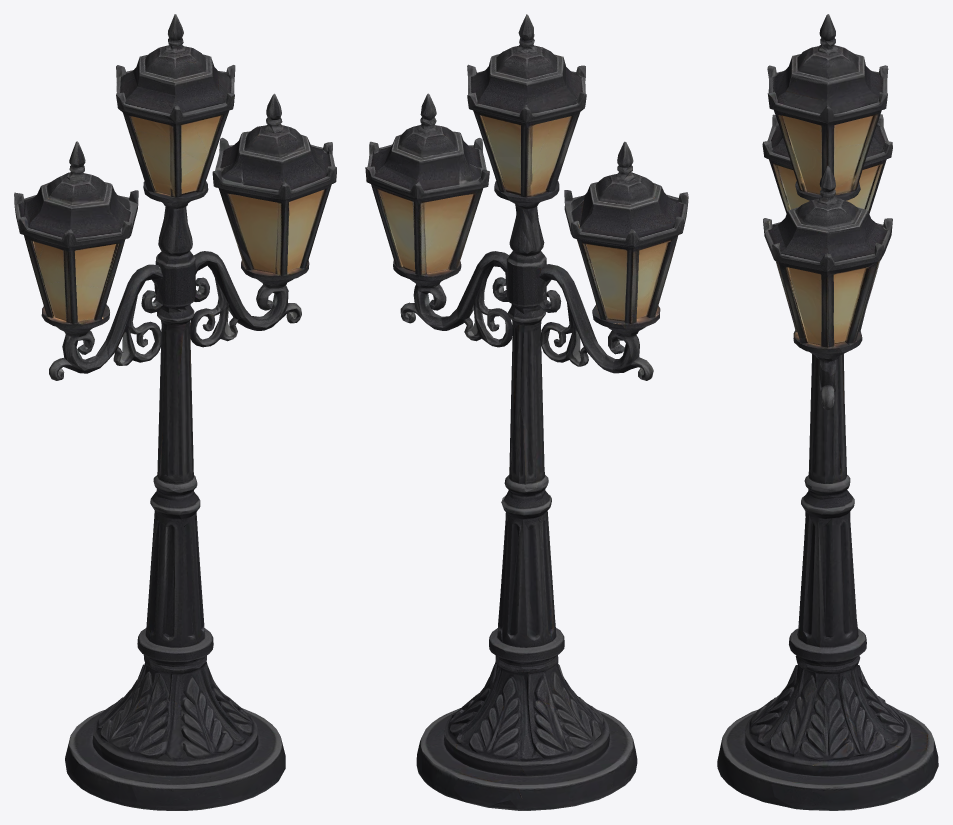
Rendered from plaza_lamp.glb.
The picture shows the model from 3 angles, left to right: view 1: azimuth 30°, elevation 25°; view 2: azimuth 150°, elevation 25°; view 3: azimuth 270°, elevation 25°; orthographic projection.
Bounding box in the file's own units: 1.75 × 4 × 1.07.
Materials: 1 (1 with a texture image).
